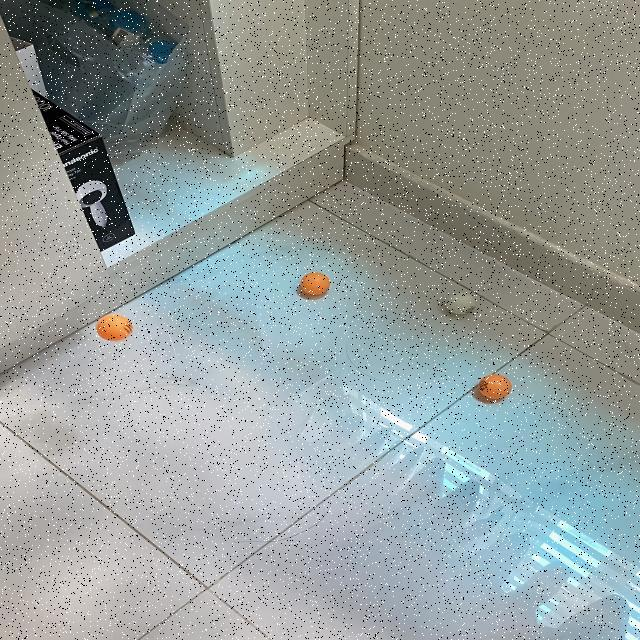ping-pong-ball: (98, 312, 132, 342), (479, 374, 513, 399), (446, 290, 476, 316), (302, 272, 332, 294)
